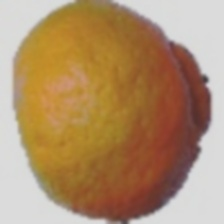tangerine: (38, 43, 210, 198)
